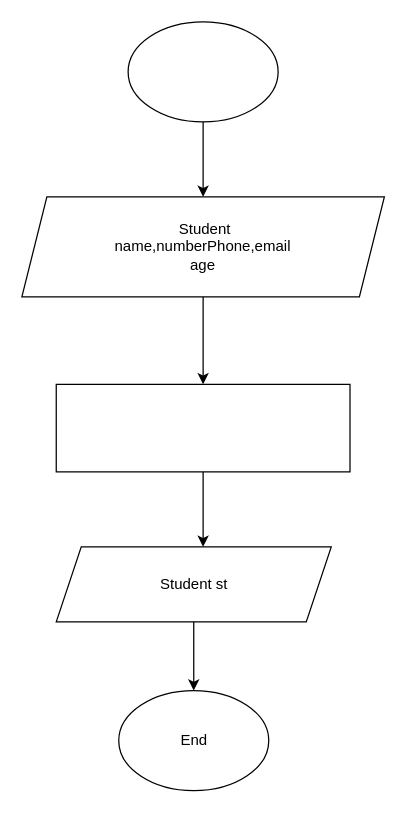
Some shapes in this 406 by 813 pixel diagram are drawn without their labels. The centre of each missing label's shape, as x and y in pixels:
"name:....... age:........ numberPhone:.......... email:............" goes at [202,427].
"Start" goes at [202,71].
